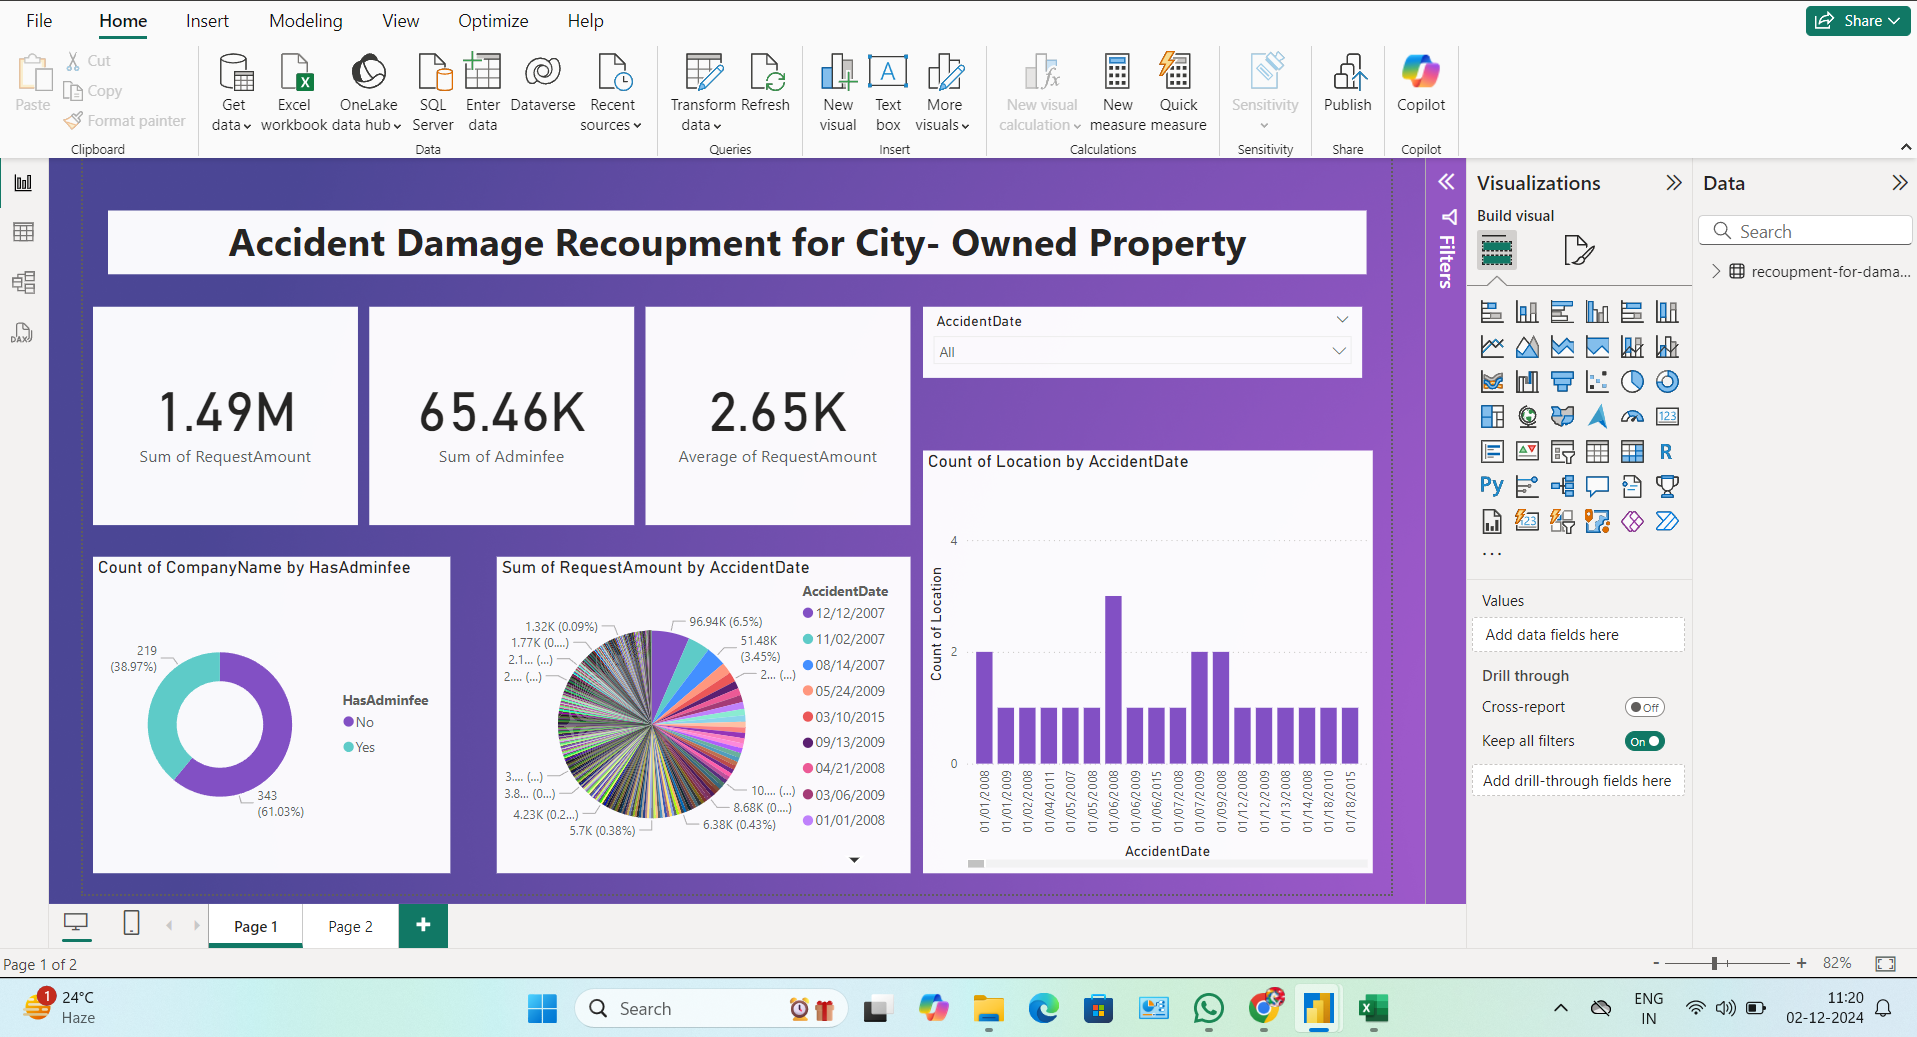

This screenshot's page, from the dashboard's own definition file:
{"tool":"powerbi","page":{"name":"Page 1","canvas":[1280,720],"ordinal":0},"visuals":[{"type":"card","fields":{"Values":["Sum(recoupment-for-damaged-city-owned-property-1.RequestAmount)"]},"box":[9.8,145.5,259.2,214],"z":0},{"type":"card","fields":{"Values":["Sum(recoupment-for-damaged-city-owned-property-1.Adminfee)"]},"box":[280,145.5,259.2,214],"z":1000},{"type":"card","fields":{"Values":["Avg(recoupment-for-damaged-city-owned-property-1.RequestAmount)"]},"box":[550.3,145.5,259.2,214],"z":2000},{"type":"clusteredColumnChart","fields":{"Y":["CountNonNull(recoupment-for-damaged-city-owned-property-1.Location)"],"Category":["recoupment-for-damaged-city-owned-property-1.AccidentDate","recoupment-for-damaged-city-owned-property-1.AccidentDate Hierarchy.AccidentDate"]},"box":[821.7,286.1,440.2,413.3],"z":3000},{"type":"slicer","fields":{"Values":["recoupment-for-damaged-city-owned-property-1.AccidentDate"]},"box":[822,145.7,429.5,70],"z":4000},{"type":"pieChart","fields":{"Category":["recoupment-for-damaged-city-owned-property-1.AccidentDate"],"Y":["Sum(recoupment-for-damaged-city-owned-property-1.RequestAmount)"]},"box":[404.8,390.1,404.8,309.4],"z":5000},{"type":"textbox","box":[24.2,51.3,1231.5,62.7],"z":6000},{"type":"donutChart","fields":{"Category":["recoupment-for-damaged-city-owned-property-1.HasAdminfee"],"Y":["CountNonNull(recoupment-for-damaged-city-owned-property-1.CompanyName)"]},"box":[9.8,390.1,349.7,309.4],"z":7000}]}

Visuals, with their boxes on the page's 1280x720 design canvas (x1, y1, x2, y2). These are canvas units, not pixel positions in the 1917x1037 screenshot, which may show the page scaled, cropped or inside an application window:
card - Sum(recoupment-for-damaged-city-owned-property-1.RequestAmount): 10,146,269,360
card - Sum(recoupment-for-damaged-city-owned-property-1.Adminfee): 280,146,539,360
card - Avg(recoupment-for-damaged-city-owned-property-1.RequestAmount): 550,146,810,360
clusteredColumnChart - CountNonNull(recoupment-for-damaged-city-owned-property-1.Location) x recoupment-for-damaged-city-owned-property-1.AccidentDate: 822,286,1262,699
slicer - recoupment-for-damaged-city-owned-property-1.AccidentDate: 822,146,1252,216
pieChart - recoupment-for-damaged-city-owned-property-1.AccidentDate x Sum(recoupment-for-damaged-city-owned-property-1.RequestAmount): 405,390,810,700
textbox: 24,51,1256,114
donutChart - recoupment-for-damaged-city-owned-property-1.HasAdminfee x CountNonNull(recoupment-for-damaged-city-owned-property-1.CompanyName): 10,390,360,700
